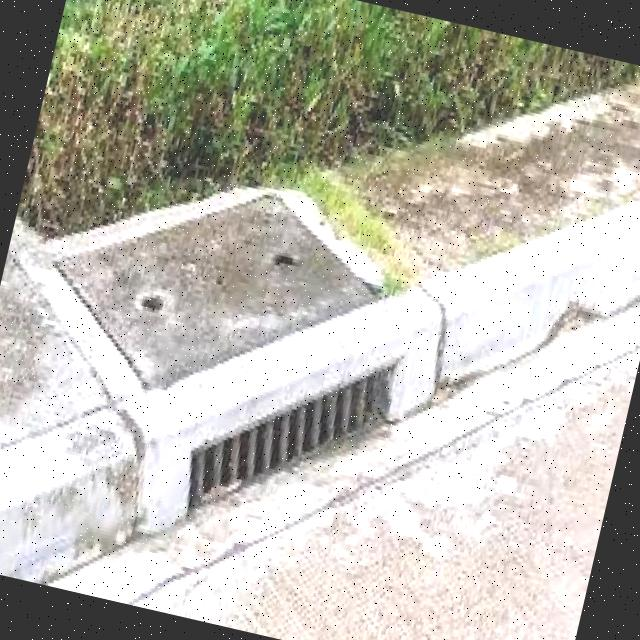curb: (158, 295, 429, 552), (371, 199, 560, 425), (1, 389, 191, 598), (545, 166, 640, 343)
